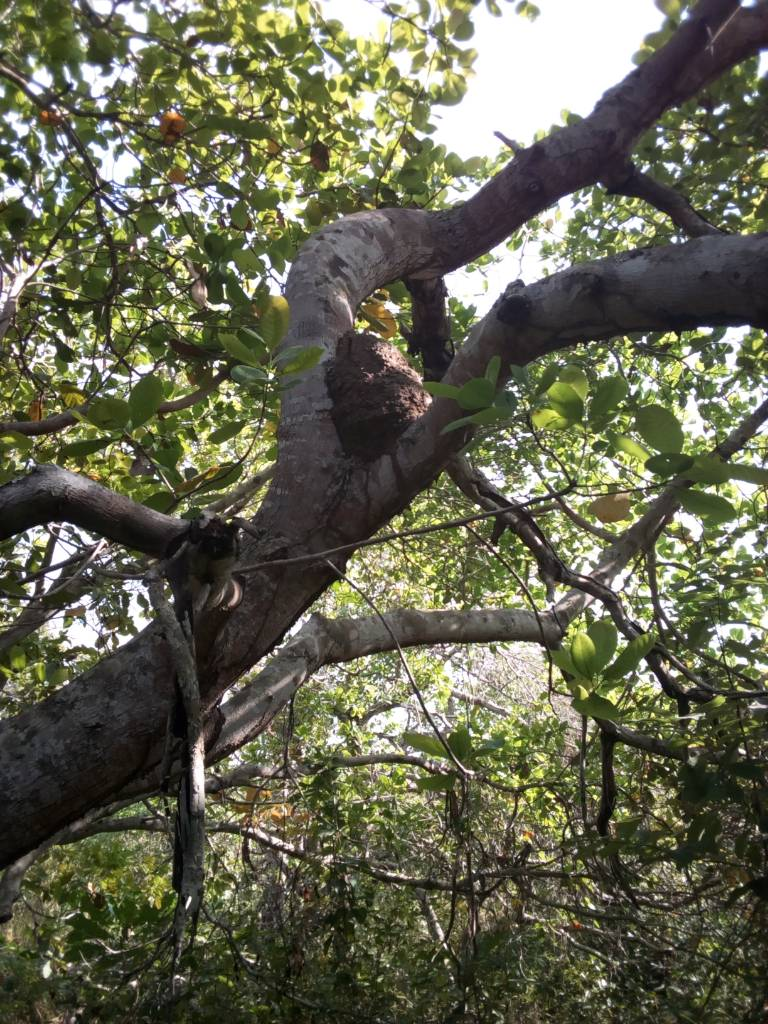Virose: (308, 325, 458, 467)
